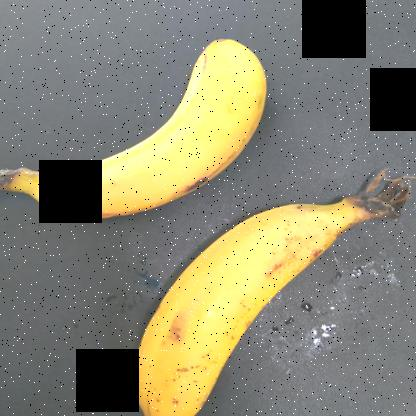freshripe: (0, 28, 283, 248)
ripe: (129, 207, 392, 415)
